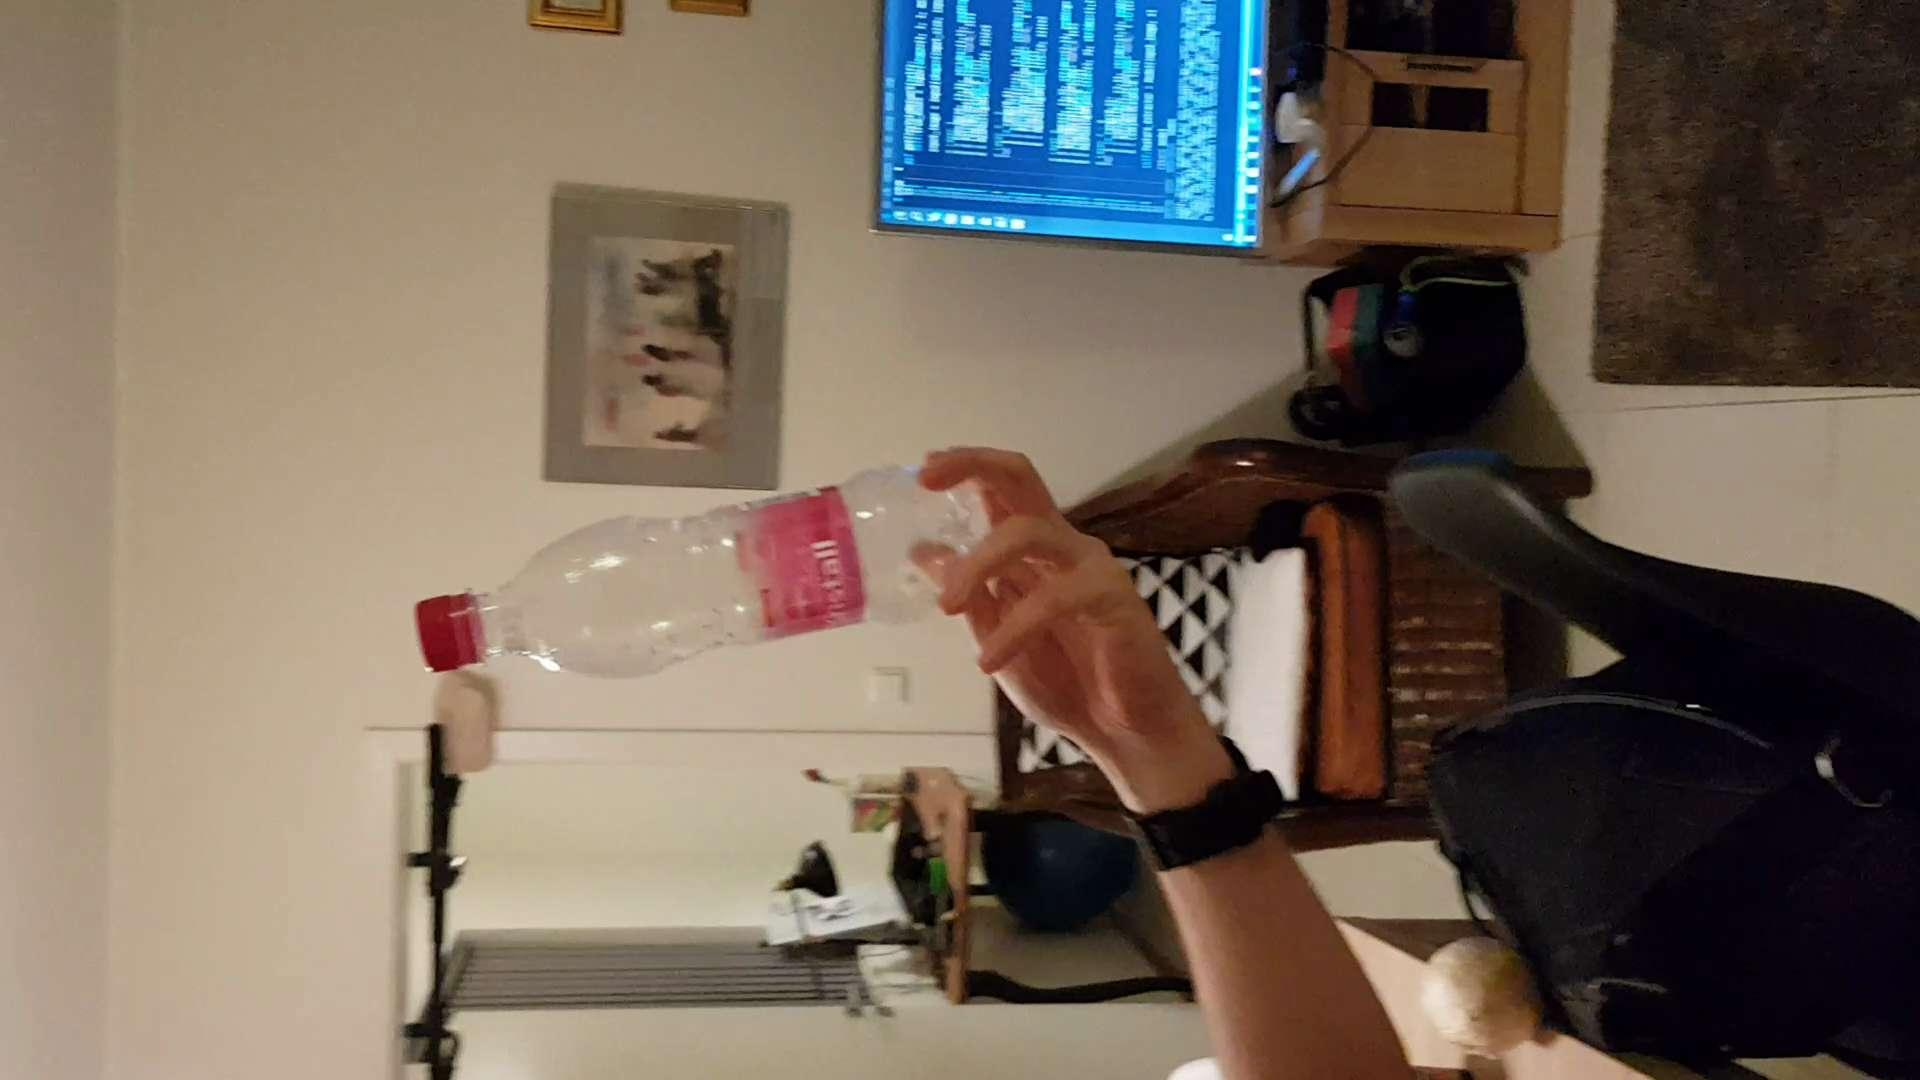Bottle: (411, 448, 960, 679)
